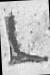D58: (3, 0, 48, 74)
